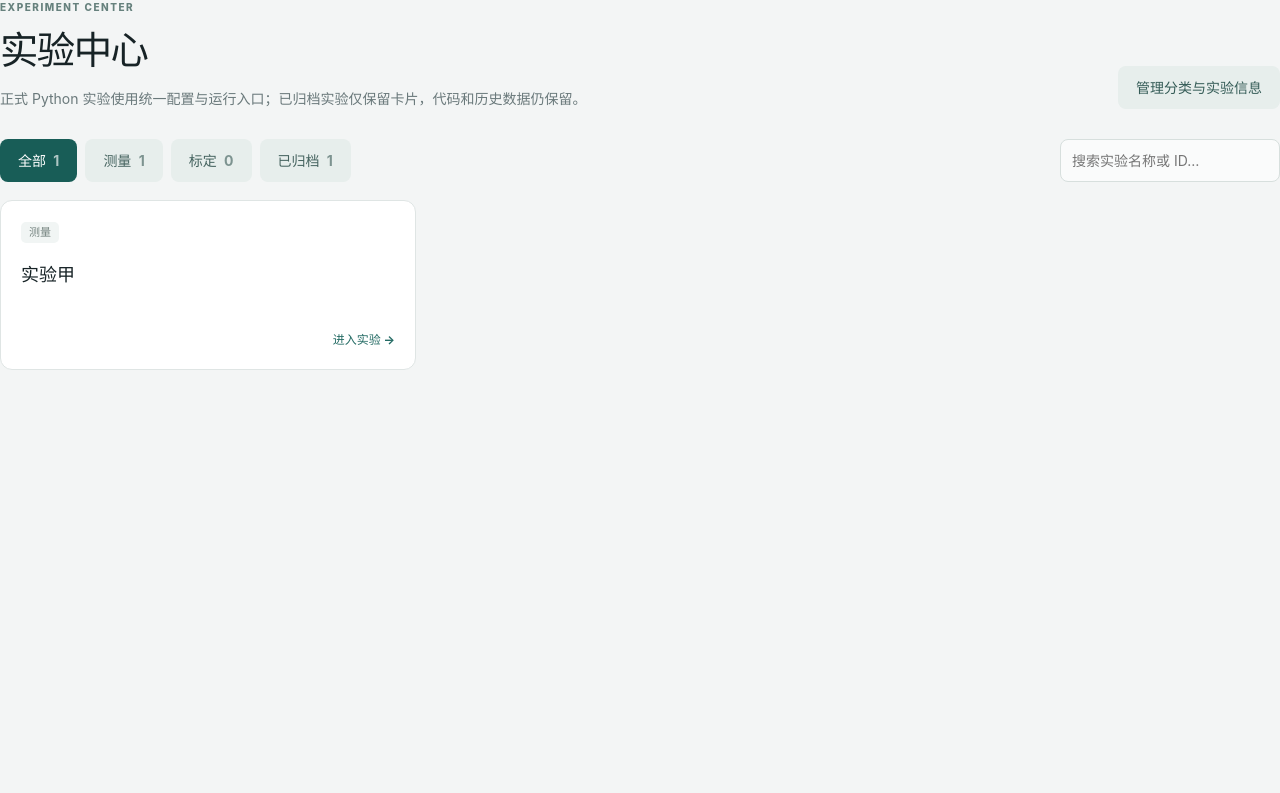
实验中心可逆归档 › 逐项归档和恢复更新计数，全部归档后提示空状态，恢复后保留原分类
Expected: the heading "实验甲" is shown, [21,264,75,285]
Click the button "管理分类与实验信息": (1199, 87) [1118,66,1279,109]
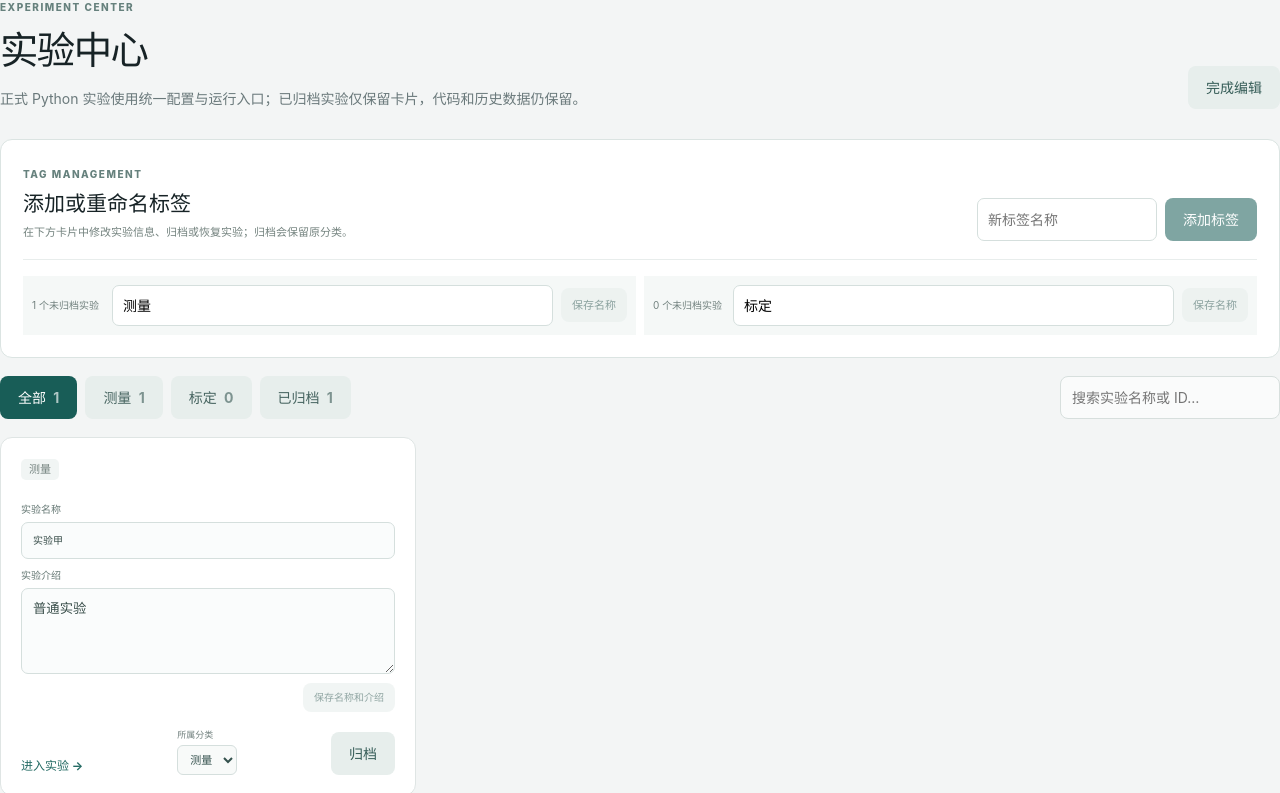
Click the button with aria-label "归档实验甲": (363, 754) [331,732,395,775]
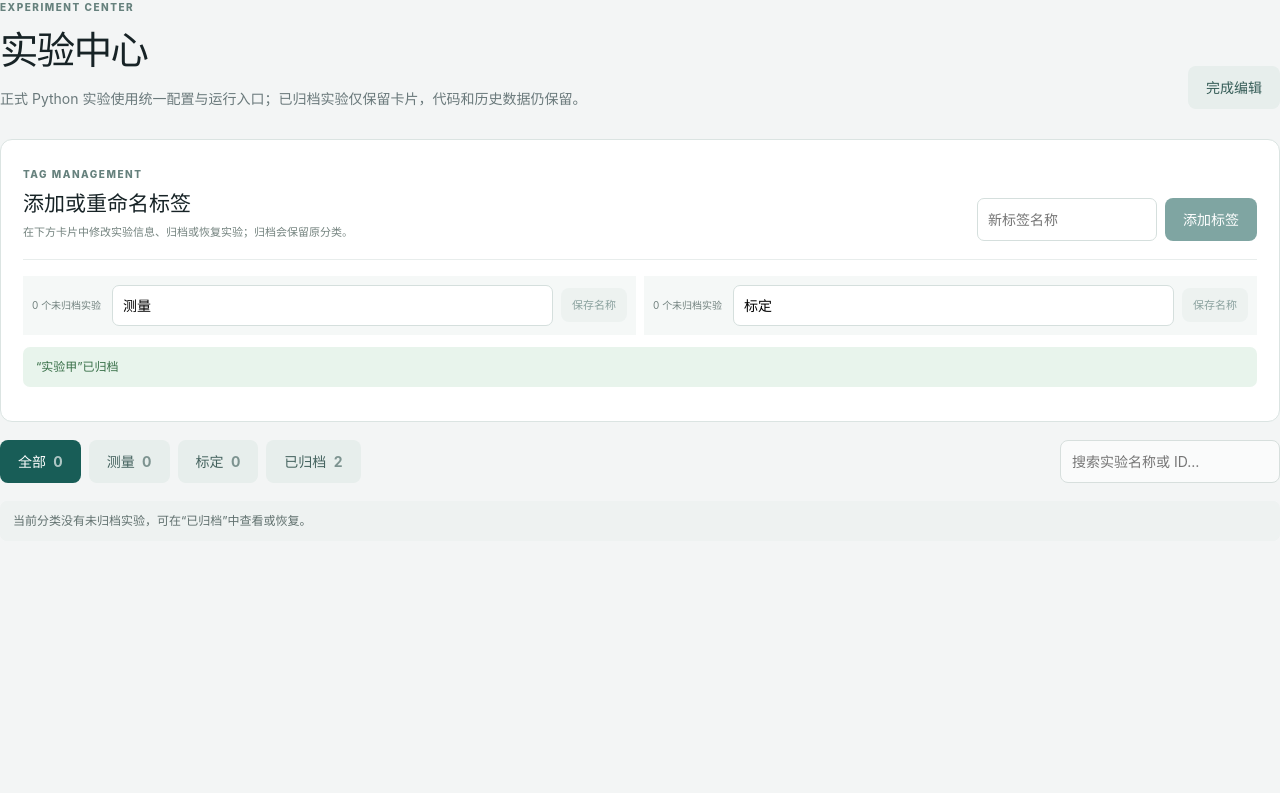
Now the text "“实验甲”已归档" is shown, box [23,347,1257,387]
Now the button "全部 0" is shown, box [0,440,81,483]
Now the text "当前分类没有未归档实验，可在“已归档”中查看或恢复。" is shown, box [0,501,1279,541]
Click the button "已归档 2": (313, 461) [266,440,360,483]
(page scrolled)
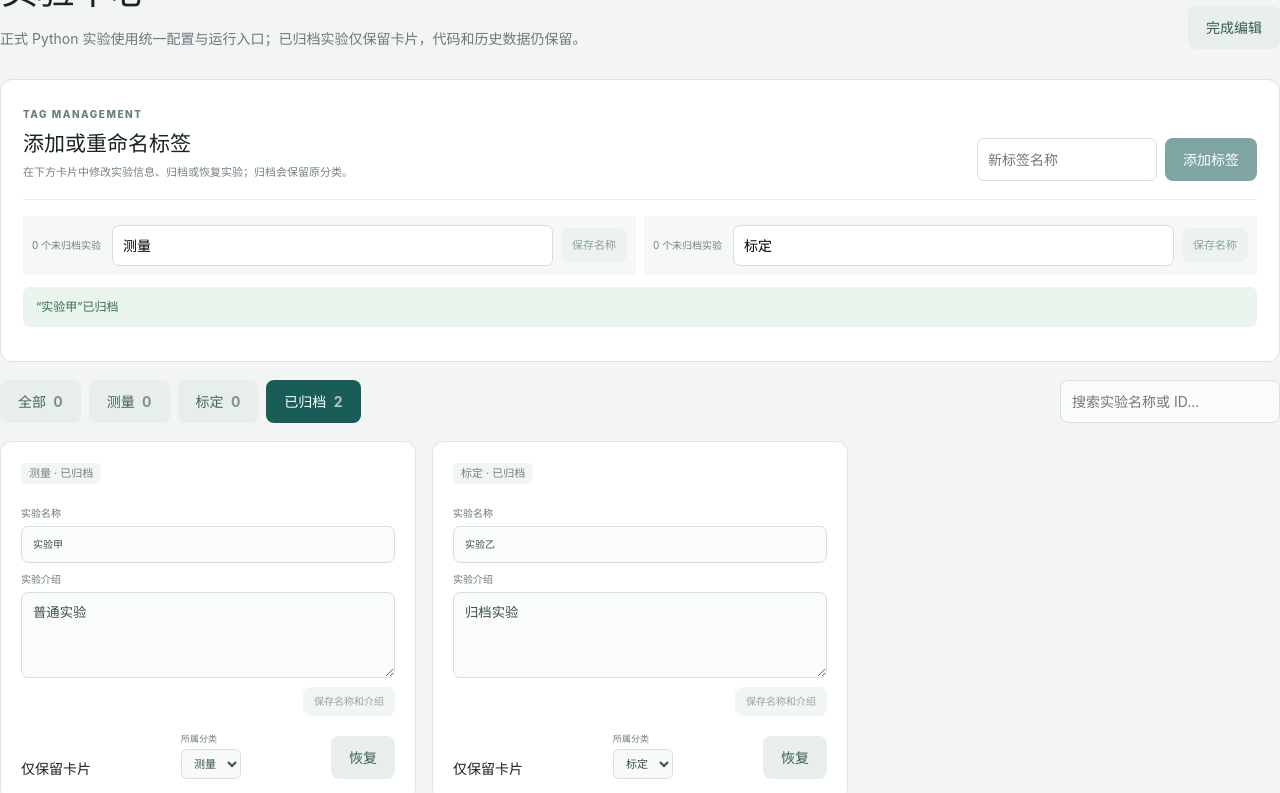
Click the button with aria-label "恢复实验甲": (363, 758) [331,736,395,779]
(page scrolled)
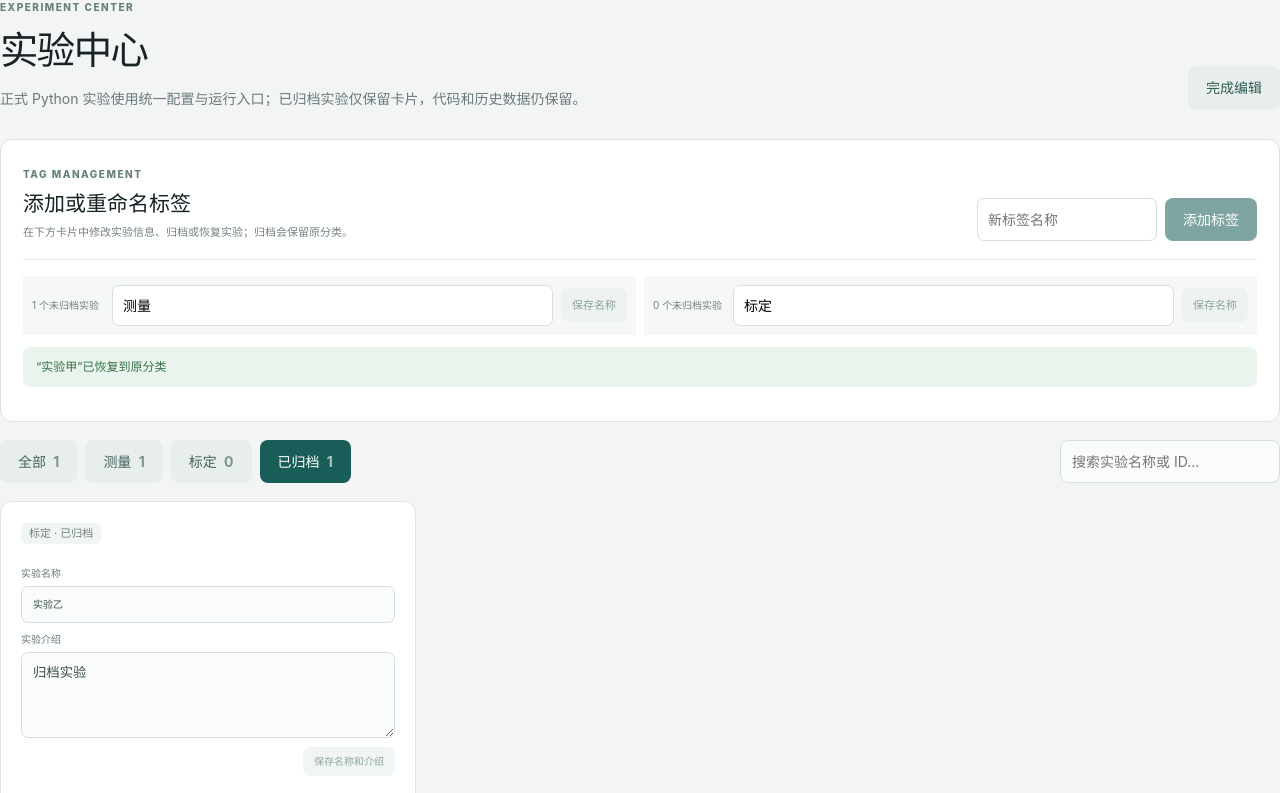
Now the text "“实验甲”已恢复到原分类" is shown, box [23,347,1257,387]
Now the button "测量 1" is shown
Click the button "测量 1": (124, 461) [85,440,163,483]
(page scrolled)
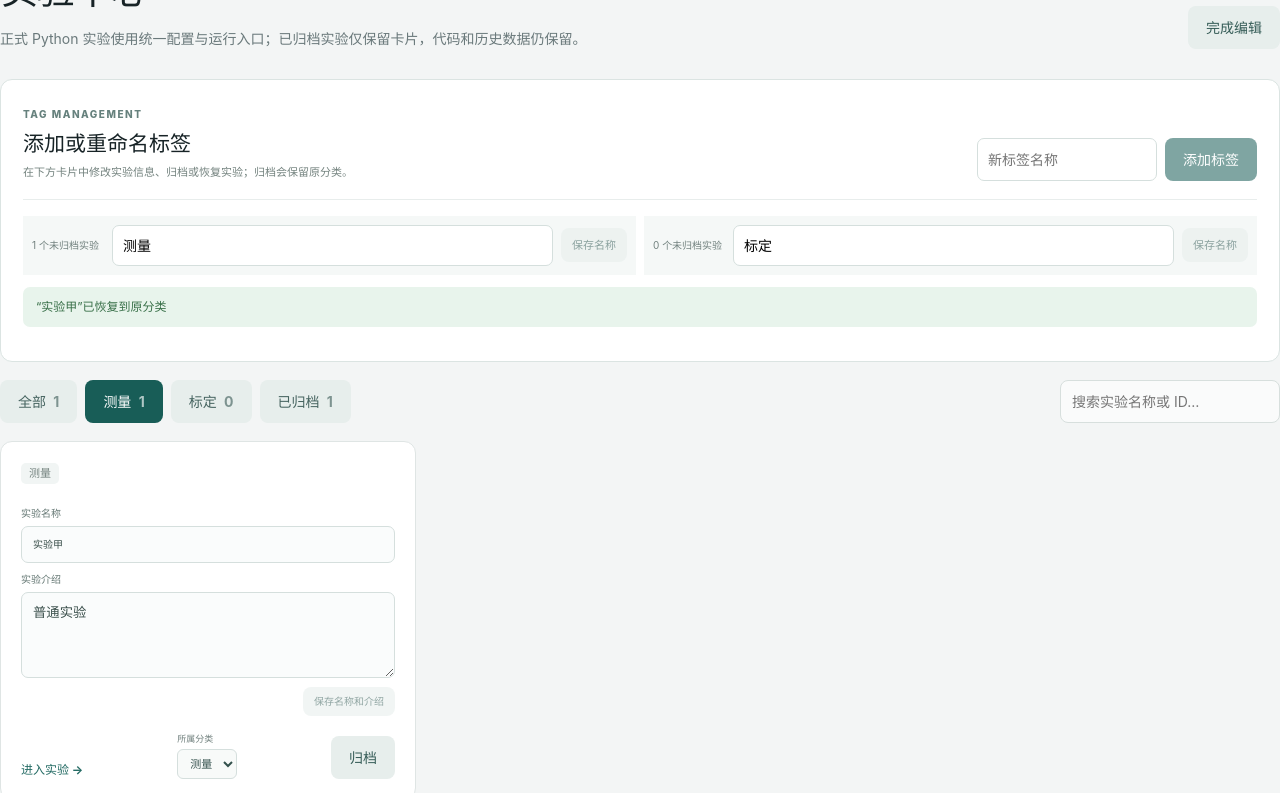
Now the field named "实验甲名称" holds "实验甲", box [21,526,395,563]
Now the dropdown shows "测量", box [177,749,237,779]
